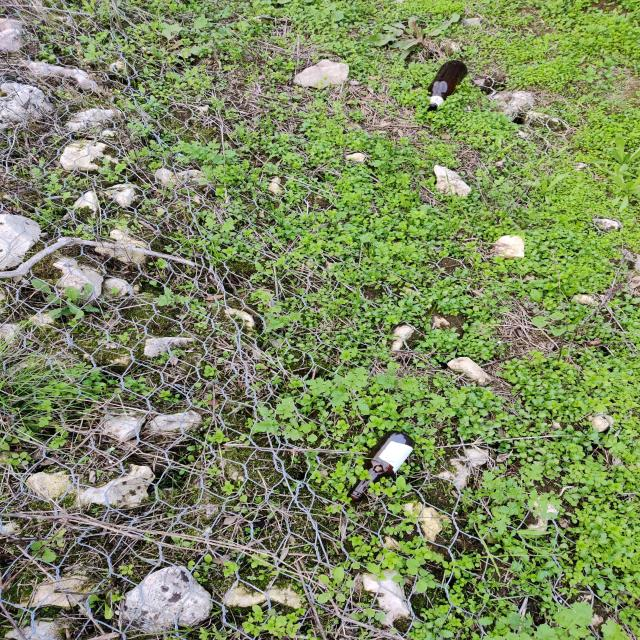litter: (337, 427, 423, 508), (413, 54, 472, 120)
